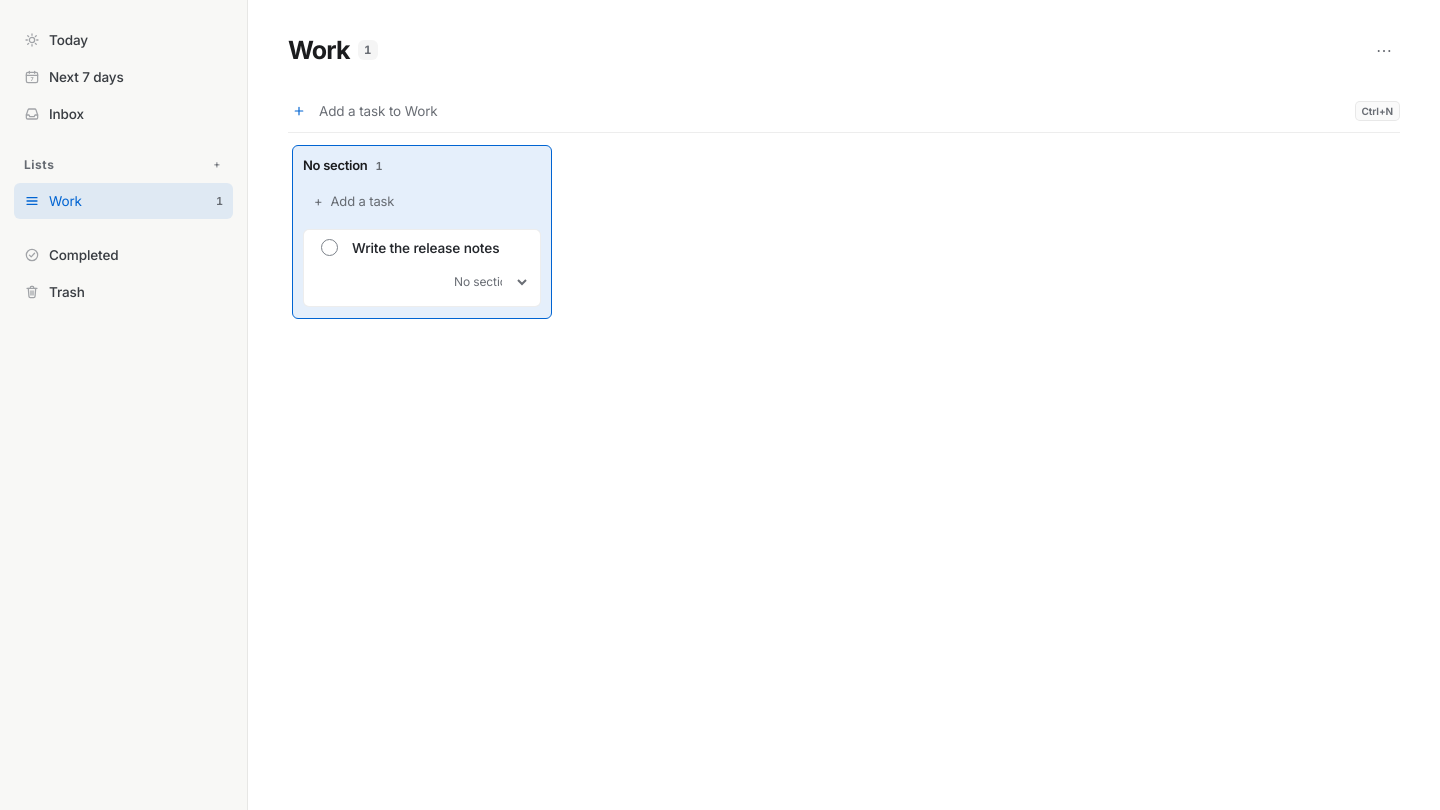
View Options › opens from the Scope's menu and shows the setting
The image size is (1440, 810).
Step 1. Click the button named "View and options" → (1384, 50), box top-left (1368, 34), bottom-right (1400, 66)
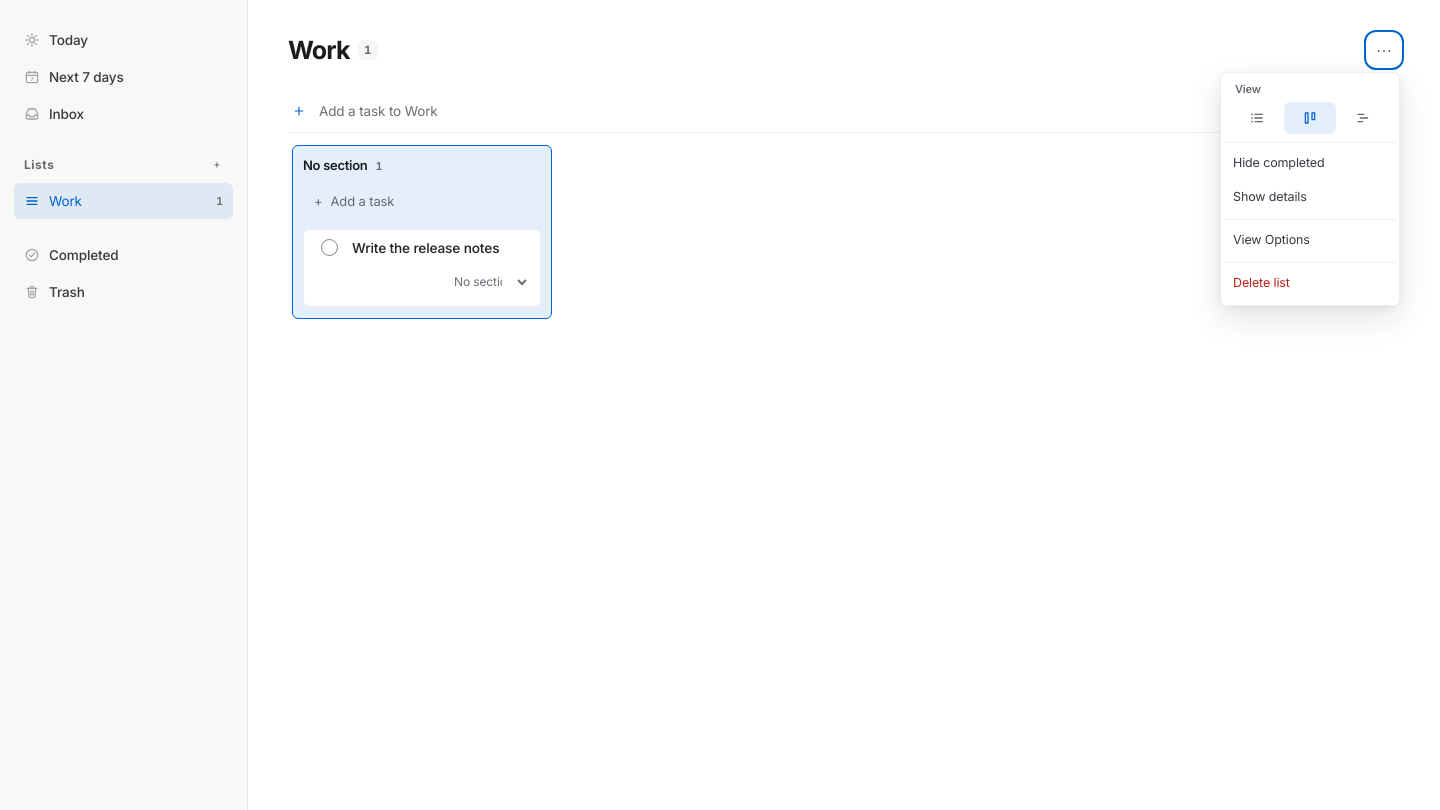
Step 2. Click the menu item "View Options" → (1271, 240), box top-left (1225, 224), bottom-right (1318, 258)
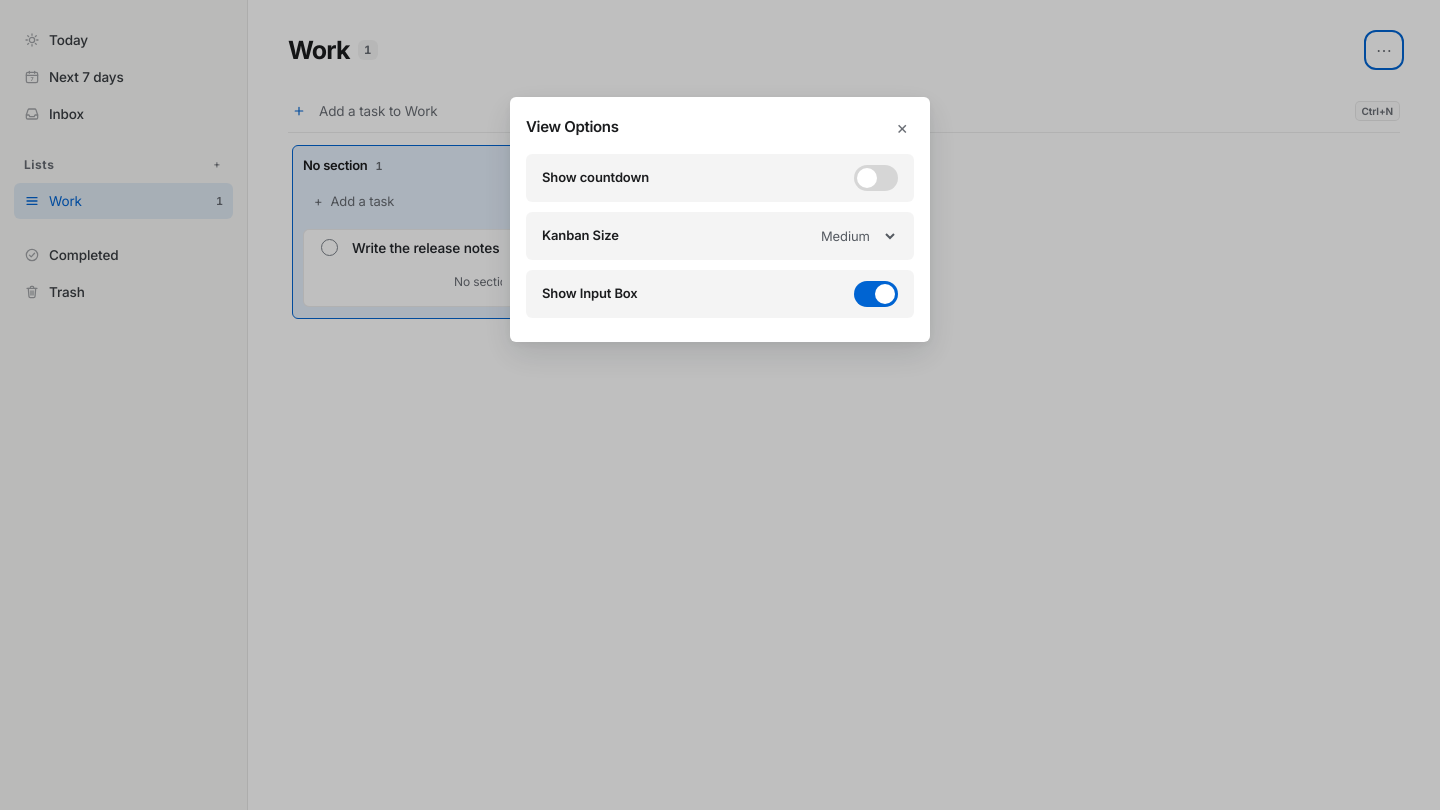
expect the switch named "Show Input Box" is shown: met, box top-left (854, 281), bottom-right (898, 307)
